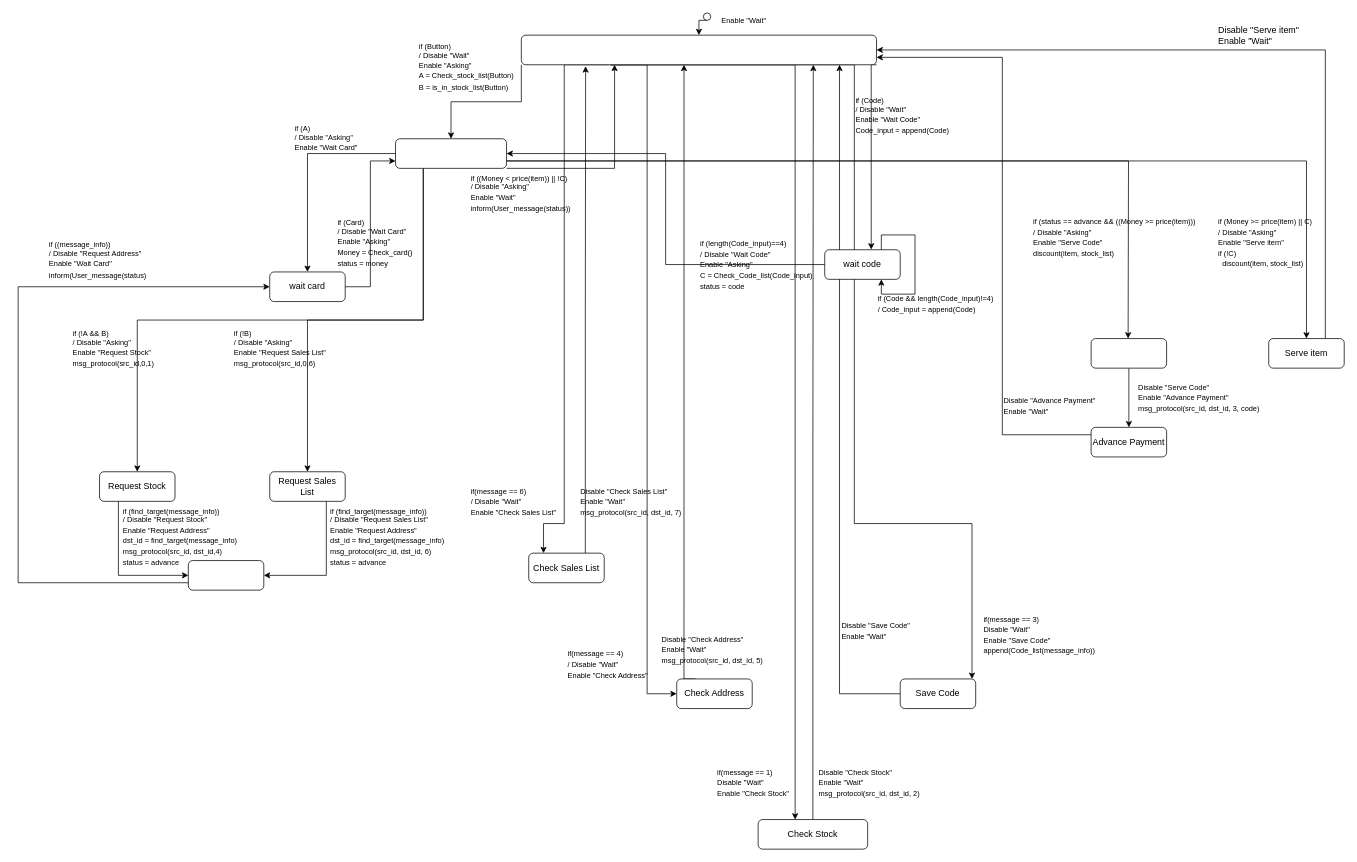
Image size: 1357x862. Some labels were removed from this diagram. Here are the shapes that lost their labels. From the top down, the centre of each, then its label:
At (699,49): "wait".
At (451,153): "Asking".
At (1128,353): "Serve Code".
At (226,575): "Request Address".
